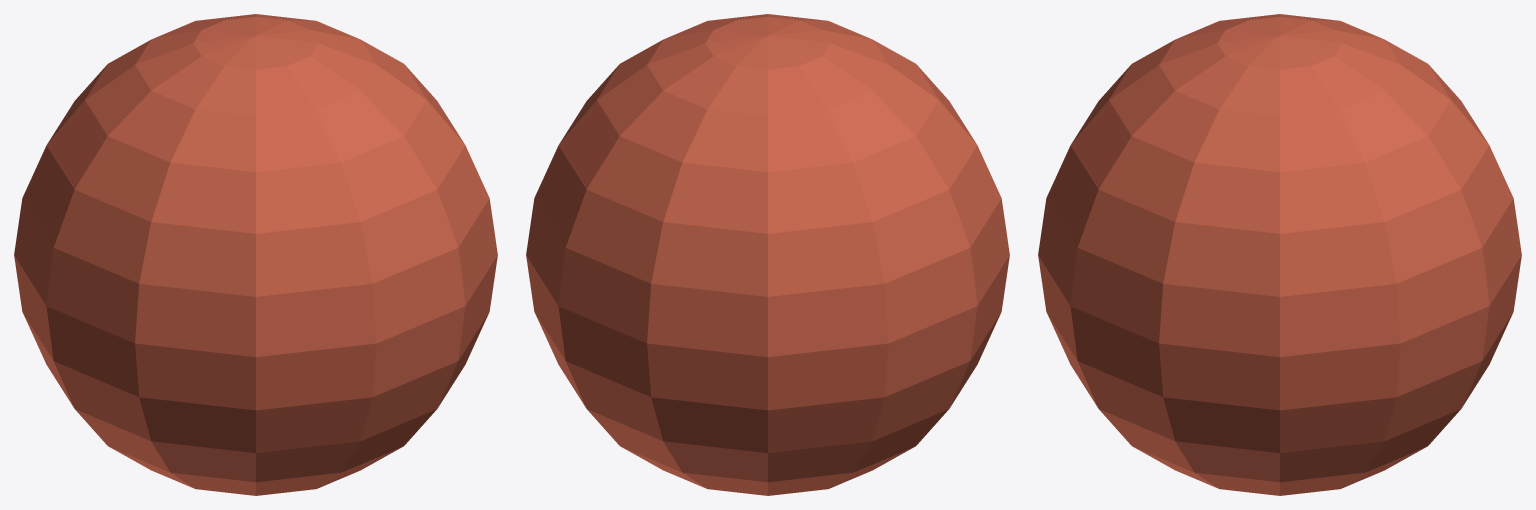
The model's file is sphere_flat_low.obj.
3 renders of one model, left to right at view 1: azimuth 30°, elevation 25°; view 2: azimuth 150°, elevation 25°; view 3: azimuth 270°, elevation 25°, orthographic.
Visible parts, largest first — view 1: Sphere; view 2: Sphere; view 3: Sphere.
Part boxes in pixels (<box>): Sphere: <box>14,14,497,495</box>; Sphere: <box>526,14,1009,495</box>; Sphere: <box>1038,14,1521,495</box>.
Size of the model in its own units: 2 by 2 by 2.
